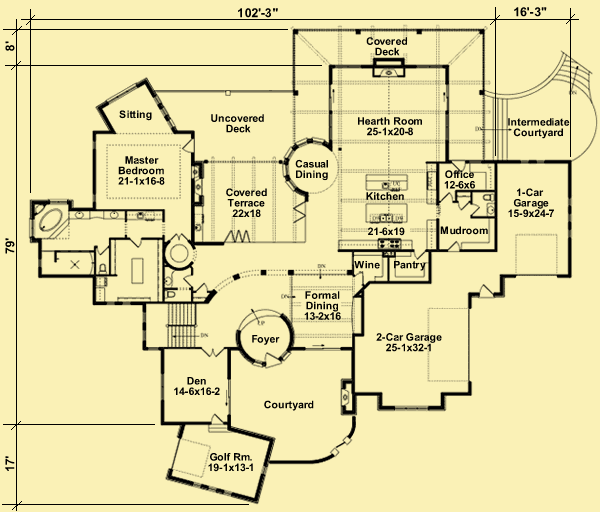door: (476, 282, 495, 298), (180, 136, 196, 152), (411, 245, 426, 257), (129, 236, 143, 248), (209, 413, 223, 424), (438, 193, 454, 202), (468, 202, 479, 214), (448, 241, 459, 250)
kitchen_bar: (364, 173, 408, 193)
large_sink: (481, 191, 495, 201), (96, 262, 108, 273), (162, 289, 175, 299)
small_sink: (125, 208, 157, 221), (103, 207, 124, 219), (69, 210, 91, 220), (485, 203, 495, 216)
stairs: (140, 303, 204, 350), (553, 48, 593, 104)
tub: (39, 206, 64, 234)
windows: (393, 402, 432, 411)
